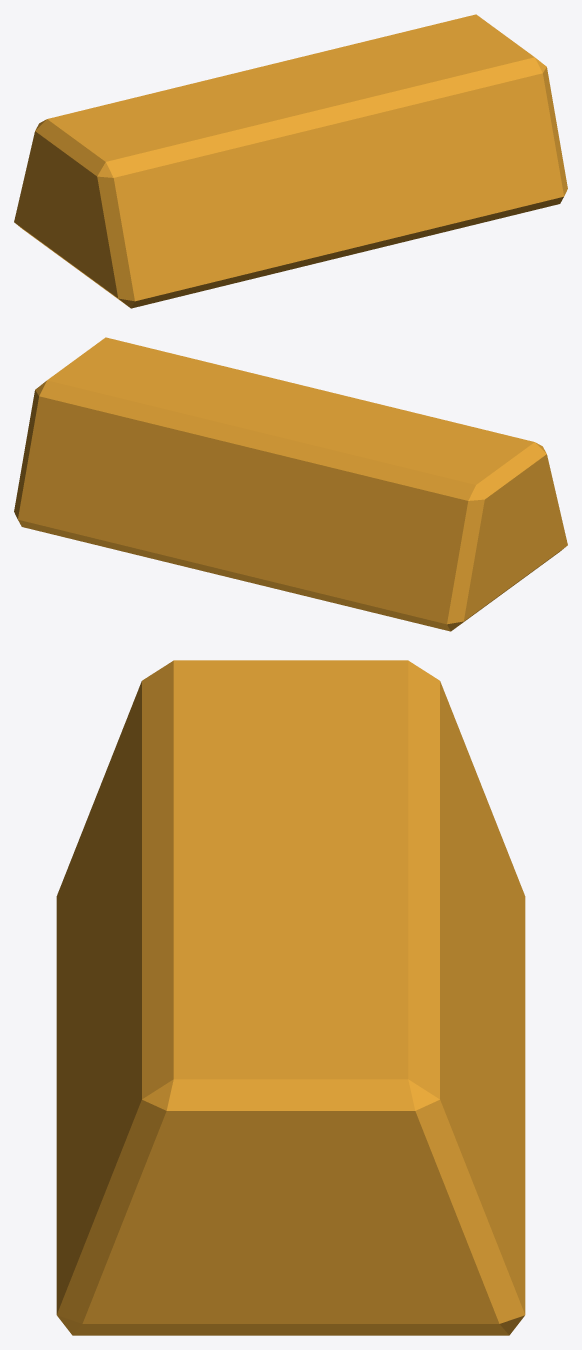
File: Gold Bar-col.glb
The picture shows the model from 3 angles, top to bottom: view 1: azimuth 30°, elevation 25°; view 2: azimuth 150°, elevation 25°; view 3: azimuth 270°, elevation 25°; orthographic projection. The views are drawn at different scales.
Parts seen in each view (by area): view 1: Gold Bar-col; view 2: Gold Bar-col; view 3: Gold Bar-col.
Part boxes in pixels (bbox=[...]): Gold Bar-col: bbox=[14, 14, 567, 308]; Gold Bar-col: bbox=[14, 337, 567, 631]; Gold Bar-col: bbox=[56, 660, 525, 1335].
Bounding box in the file's own units: 0.2636 × 0.0718 × 0.1189.
